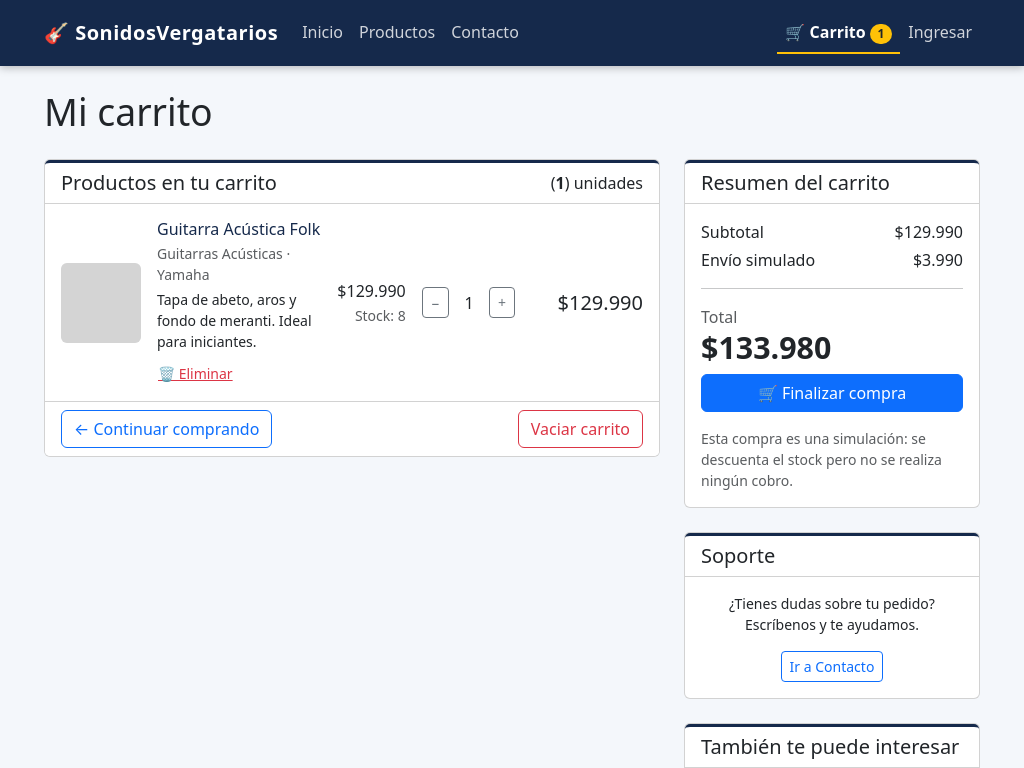
Scenario: catálogo y carrito visibles › permite vaciar el carrito mediante confirmación
This screenshot has width=1024, height=768.
Click the button "Vaciar carrito".
click(580, 429)  # box [518,410,643,448]
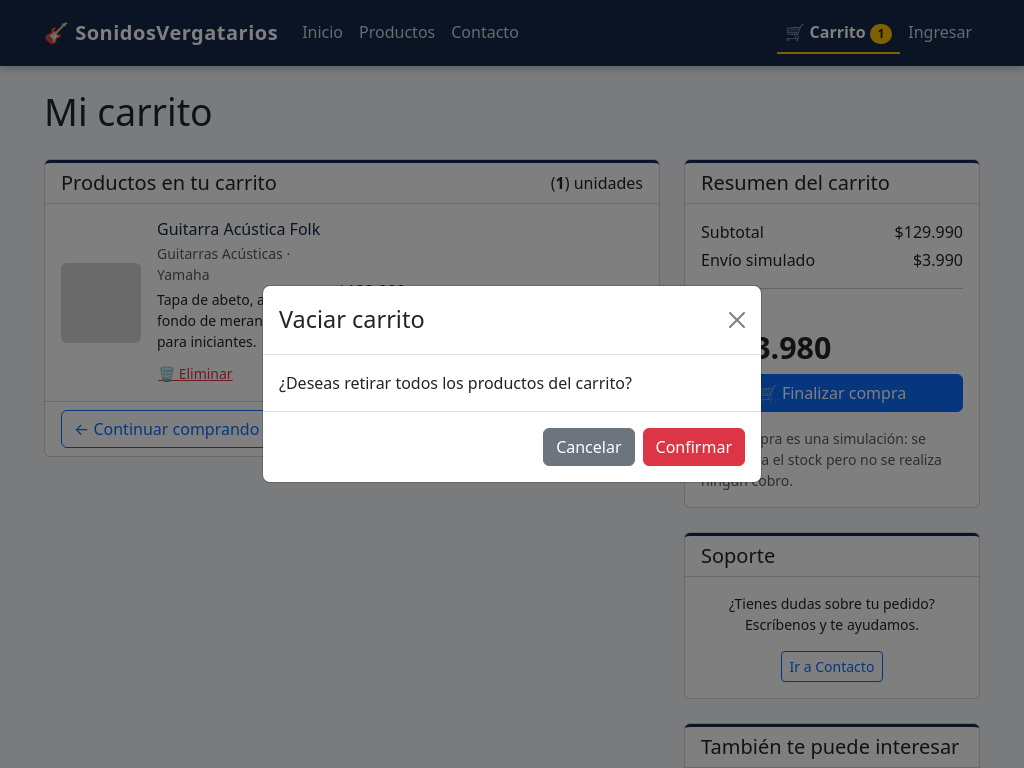
Click the button "Confirmar".
click(694, 447)  # box [642,428,745,466]
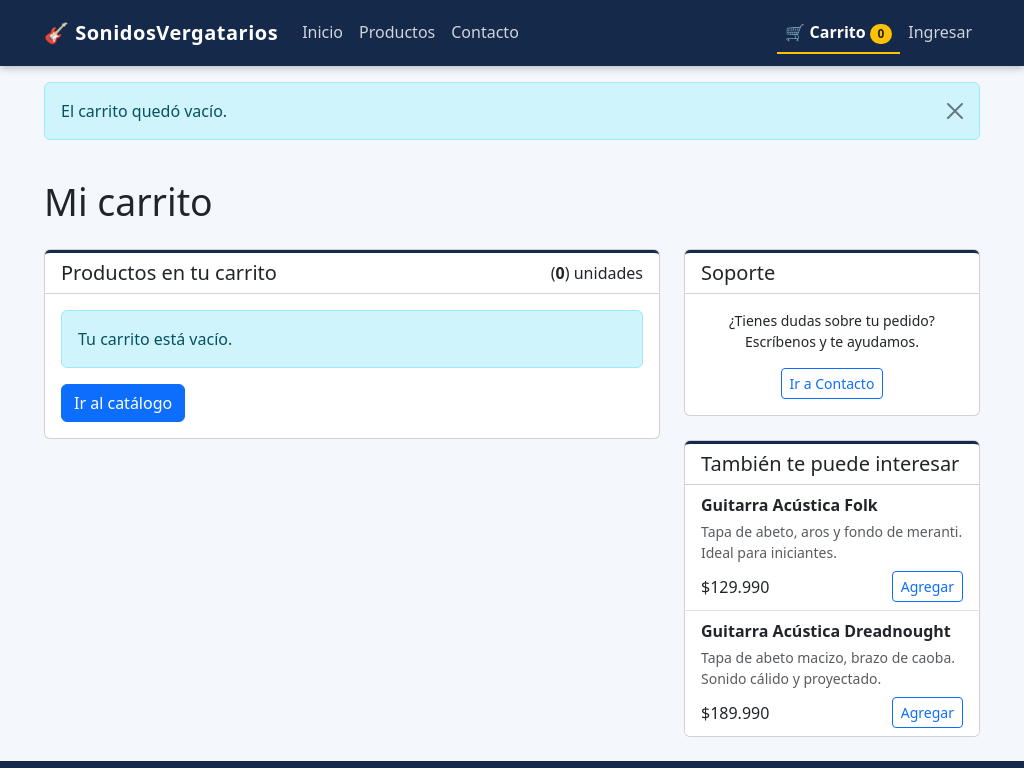
Check: the text "Tu carrito está vacío." is shown, box [61,310,643,368]
